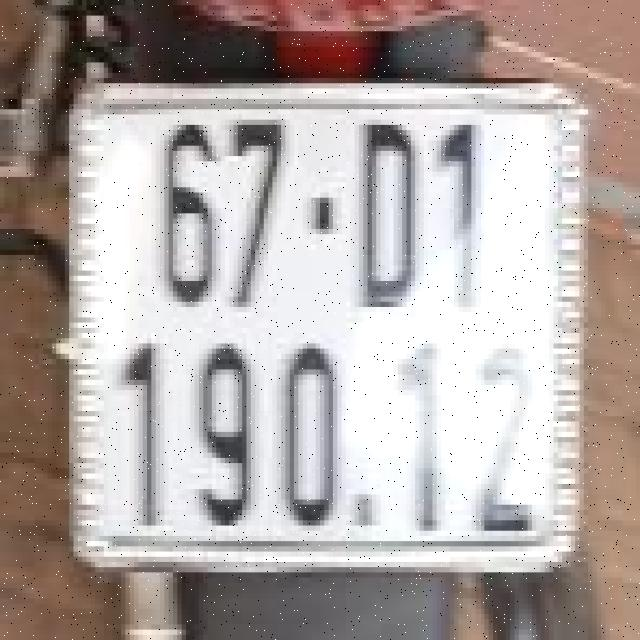0: (274, 333, 344, 526)
1: (112, 333, 182, 536), (430, 109, 491, 312), (396, 338, 452, 541)
2: (472, 322, 566, 556)
6: (145, 112, 223, 309)
7: (223, 91, 283, 320)
9: (186, 325, 264, 539)
D: (346, 107, 428, 320)
